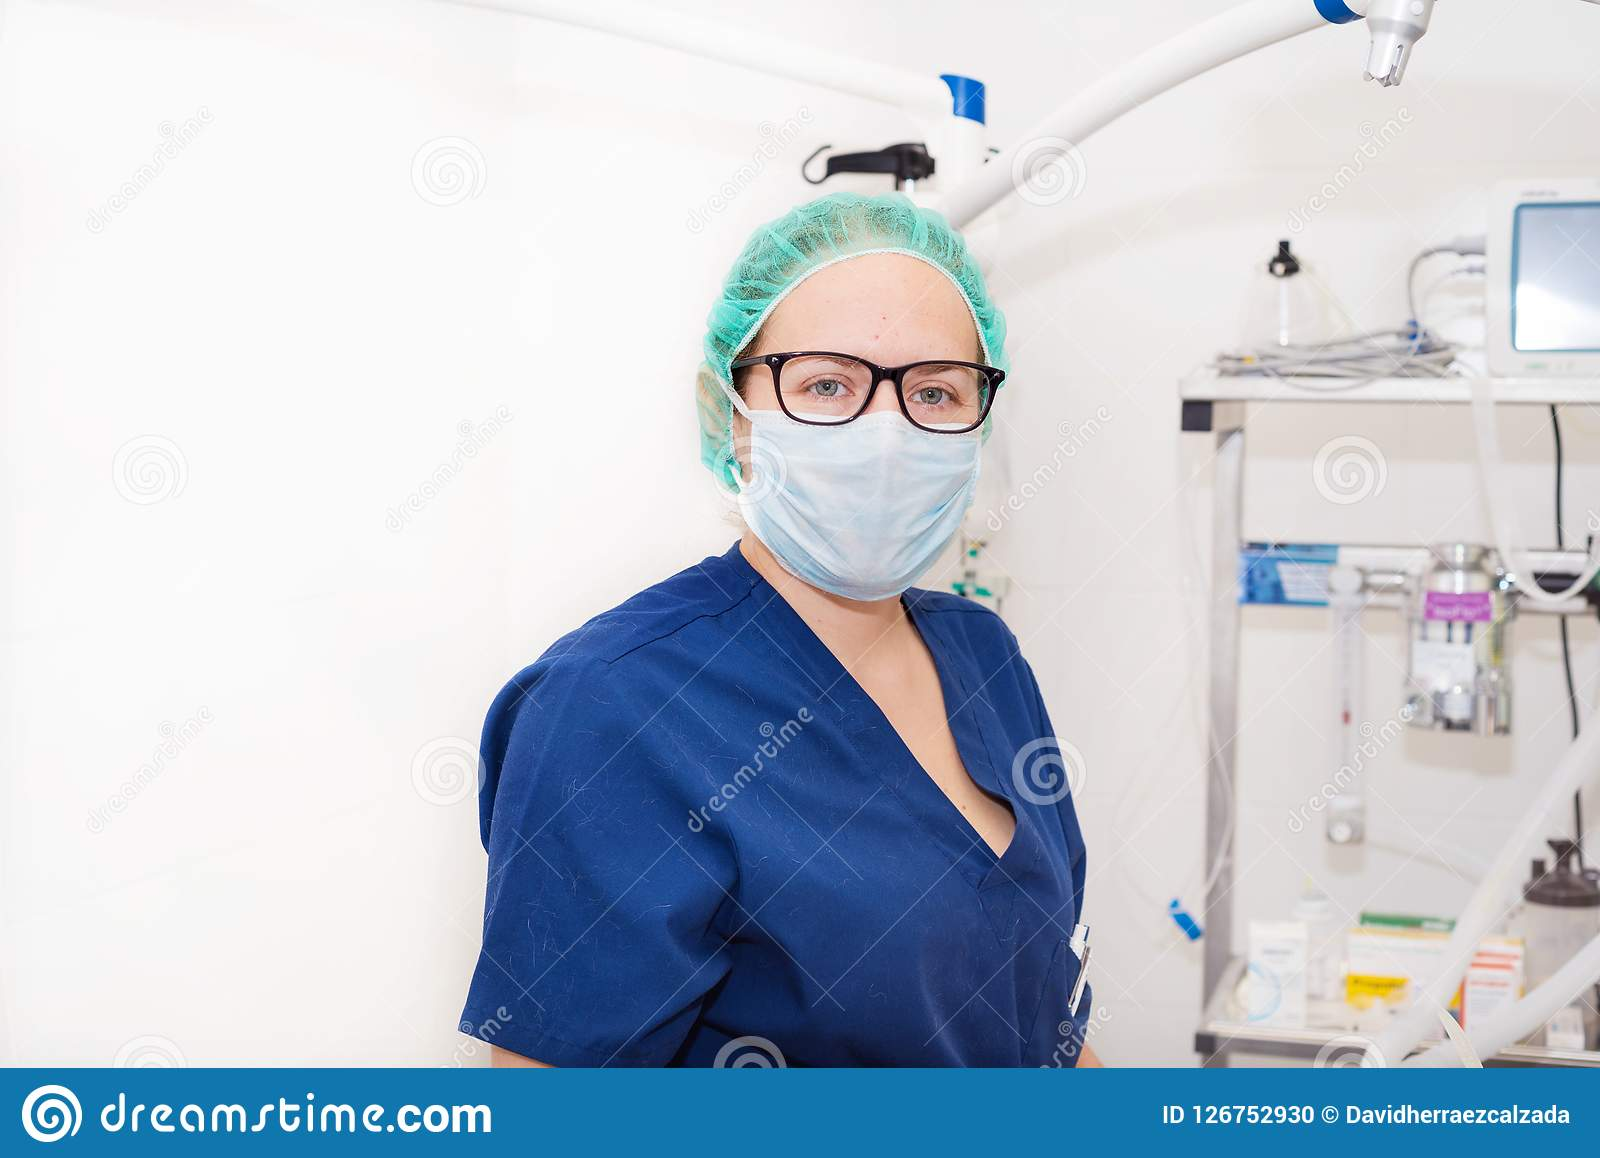mask: (728, 404, 989, 608)
